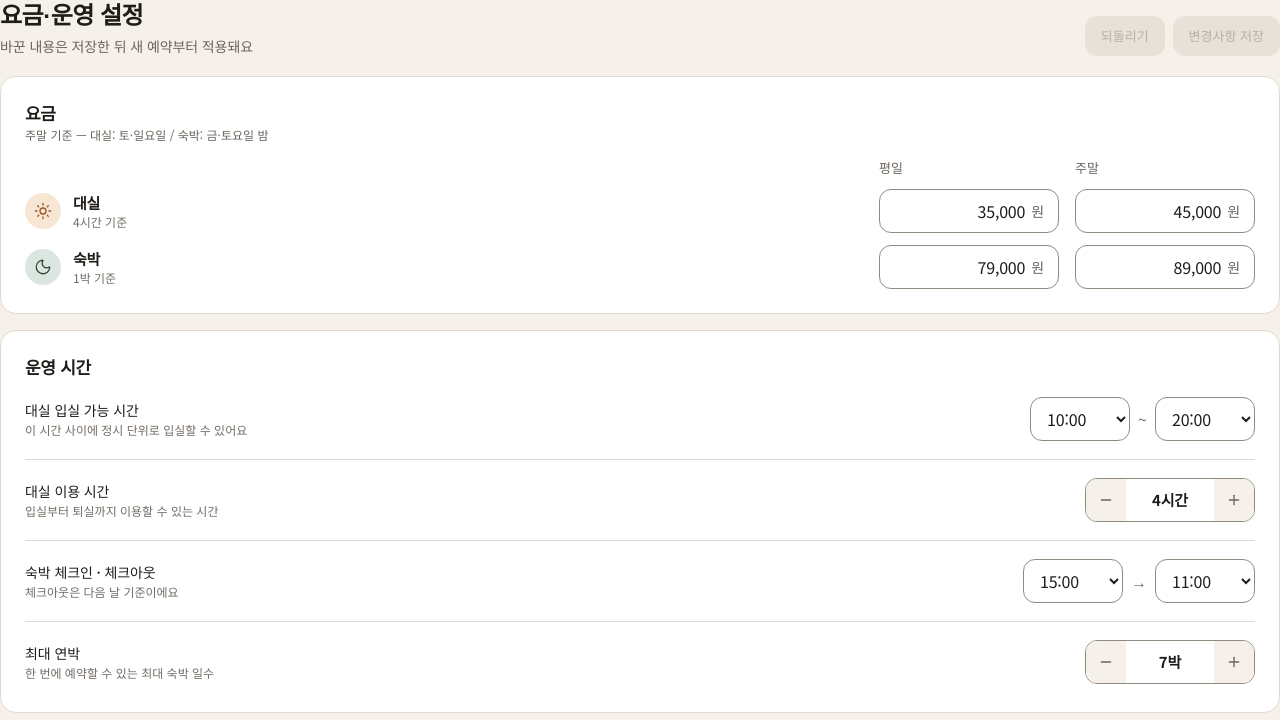
SettingsForm › blocks saving and explains an invalid check-out time
Select "15:00" in the dropdown named "체크아웃 시각": coordinates (1205, 581) [1155, 559, 1255, 603]
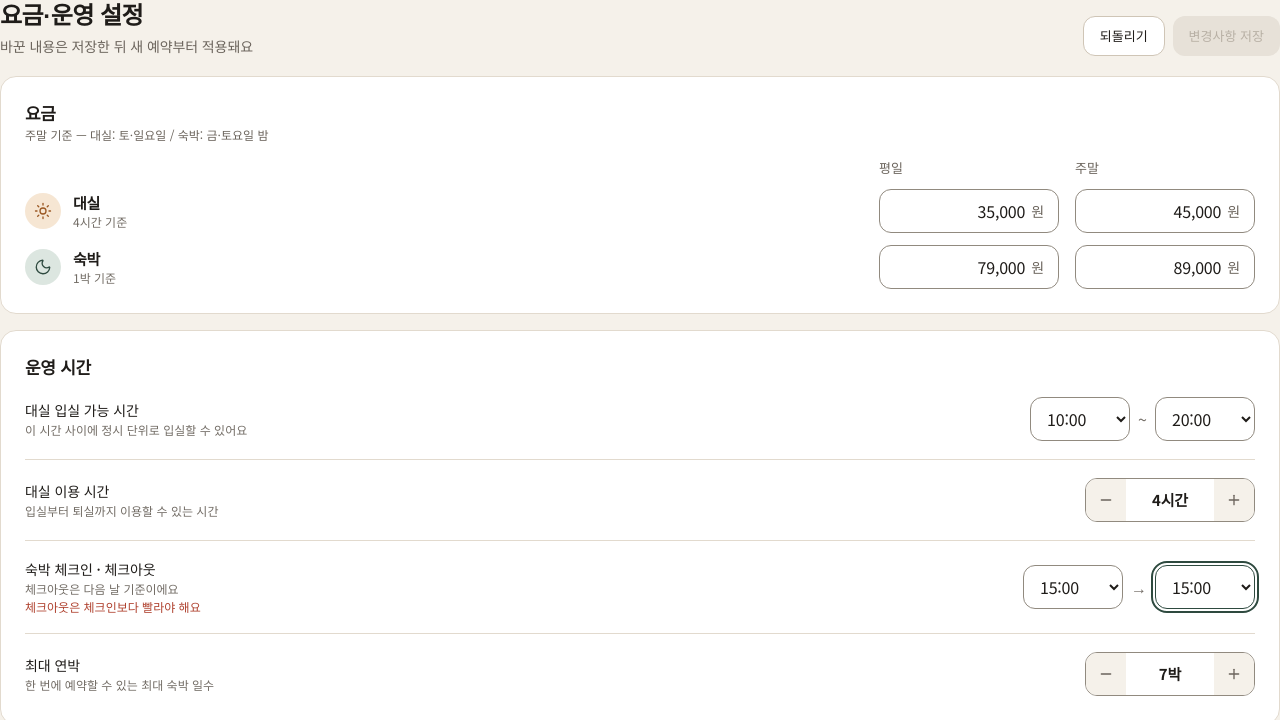
Expected: the button "변경사항 저장" is disabled, [1173, 16, 1279, 56]
Expected: the text "체크아웃은 체크인보다 빨라야 해요" is shown, [25, 598, 201, 615]
